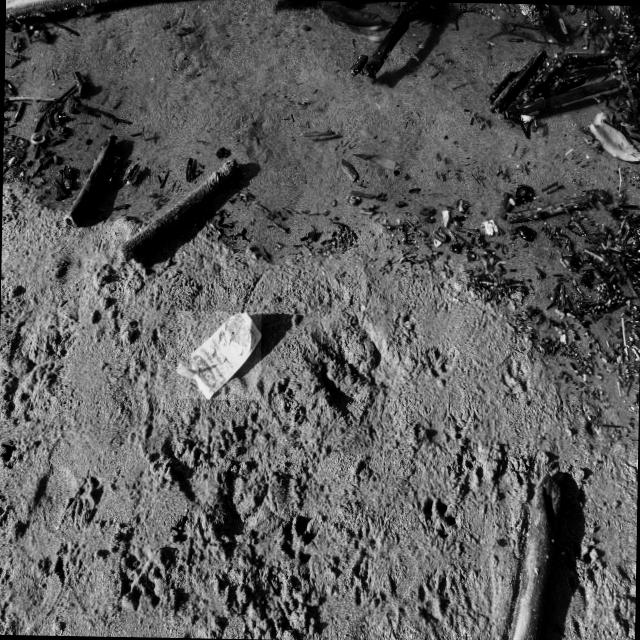Other plastic: (176, 312, 261, 399)
Styrofoam piece: (483, 220, 497, 235)
